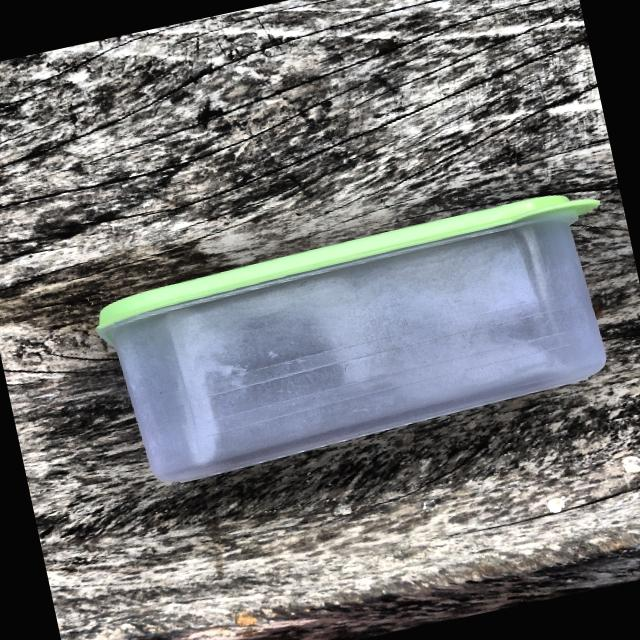plastic container: (58, 167, 640, 518)
